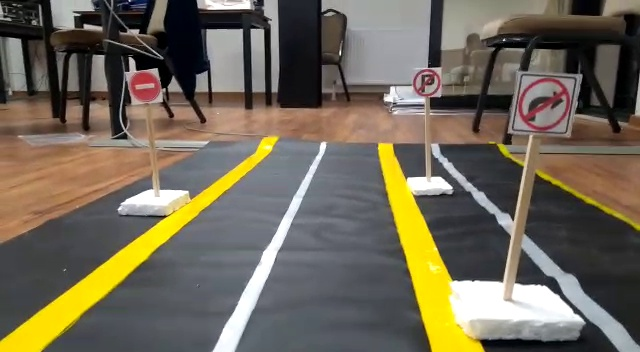girisi_olmayan_yol: (127, 72, 163, 105)
park_yapilmaz: (411, 68, 442, 98)
saga_donulmez: (511, 68, 570, 133)
